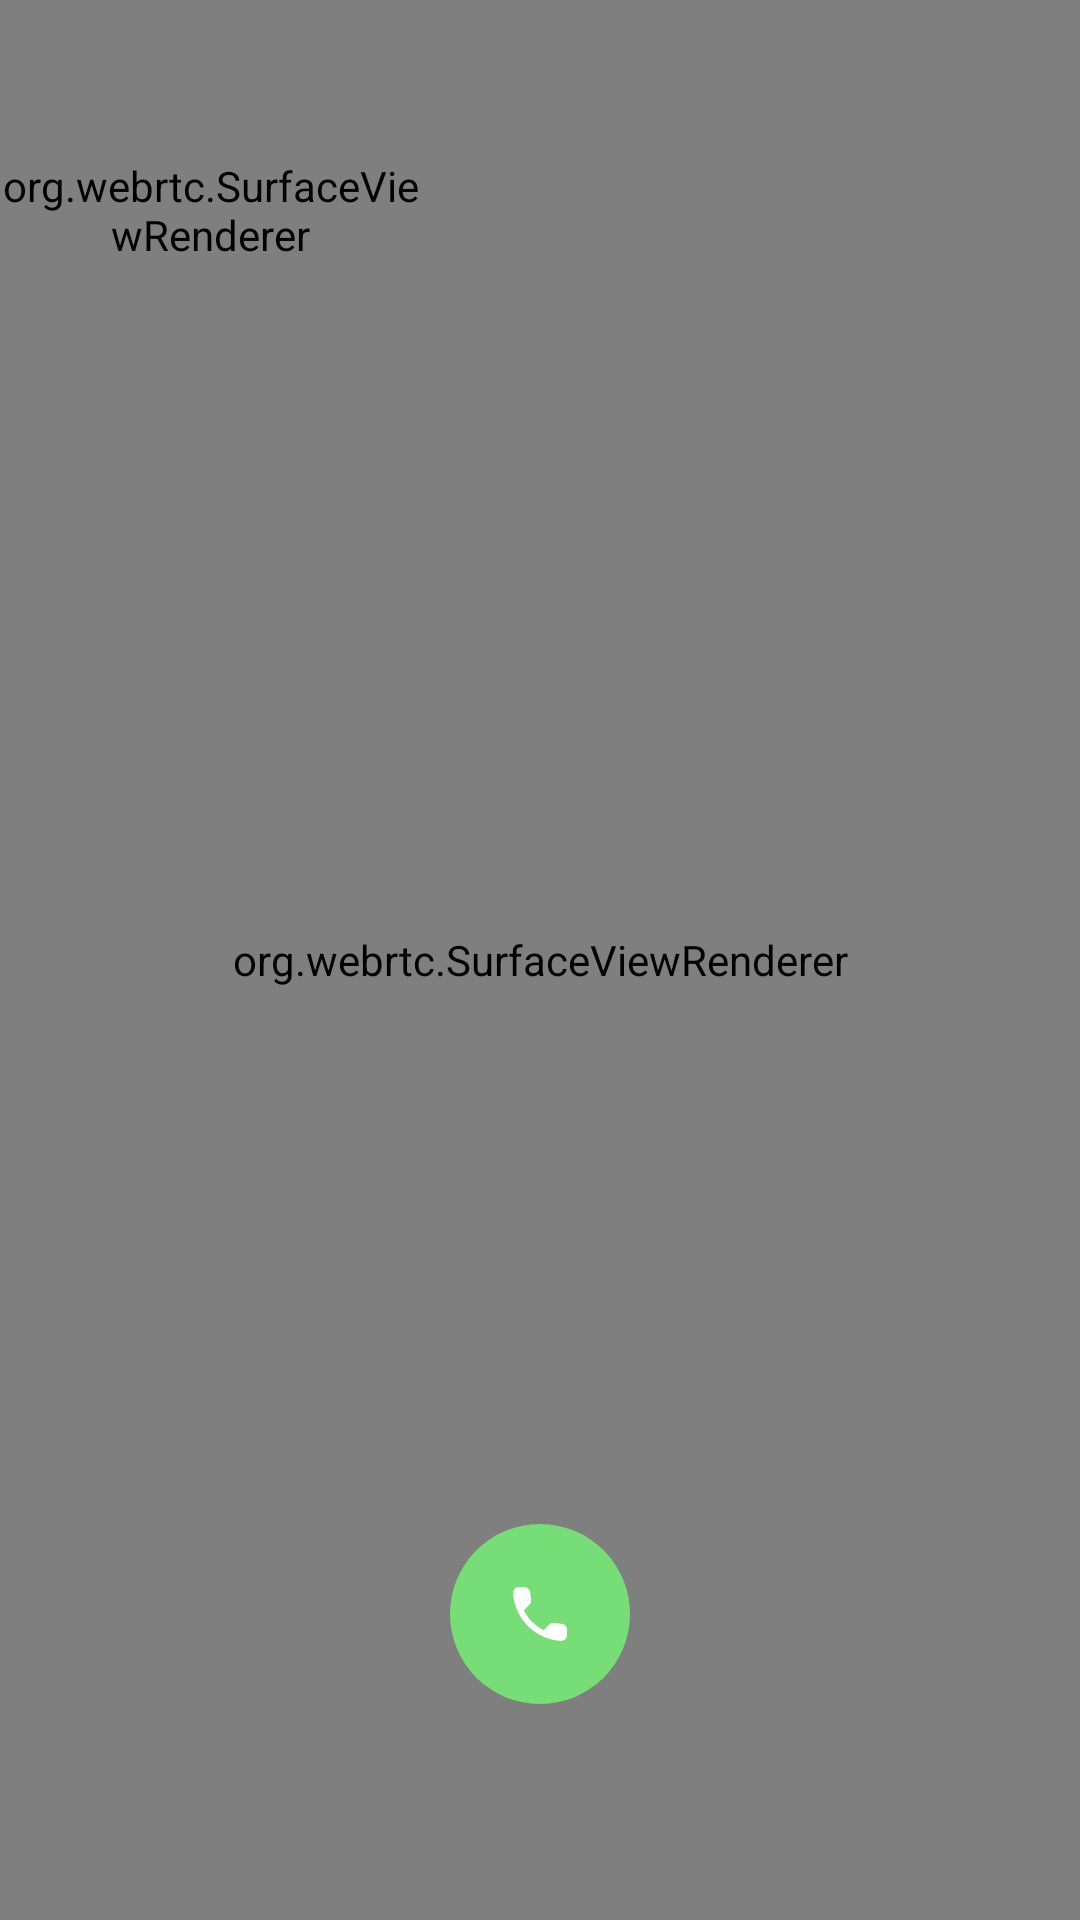

Locate icon controls on the screen. Image size 1080px x 1920px, boxes as [x1=x1, y1=y1, x2=x2, y2=y2].
call: [x1=450, y1=1524, x2=630, y2=1704]
